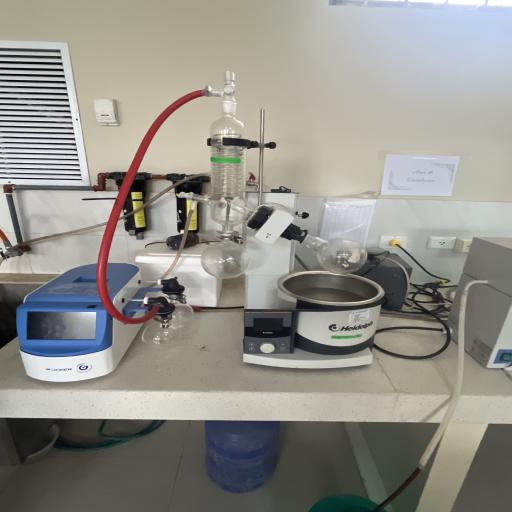Sistema_Rotaevaporacion: (10, 65, 386, 383)
